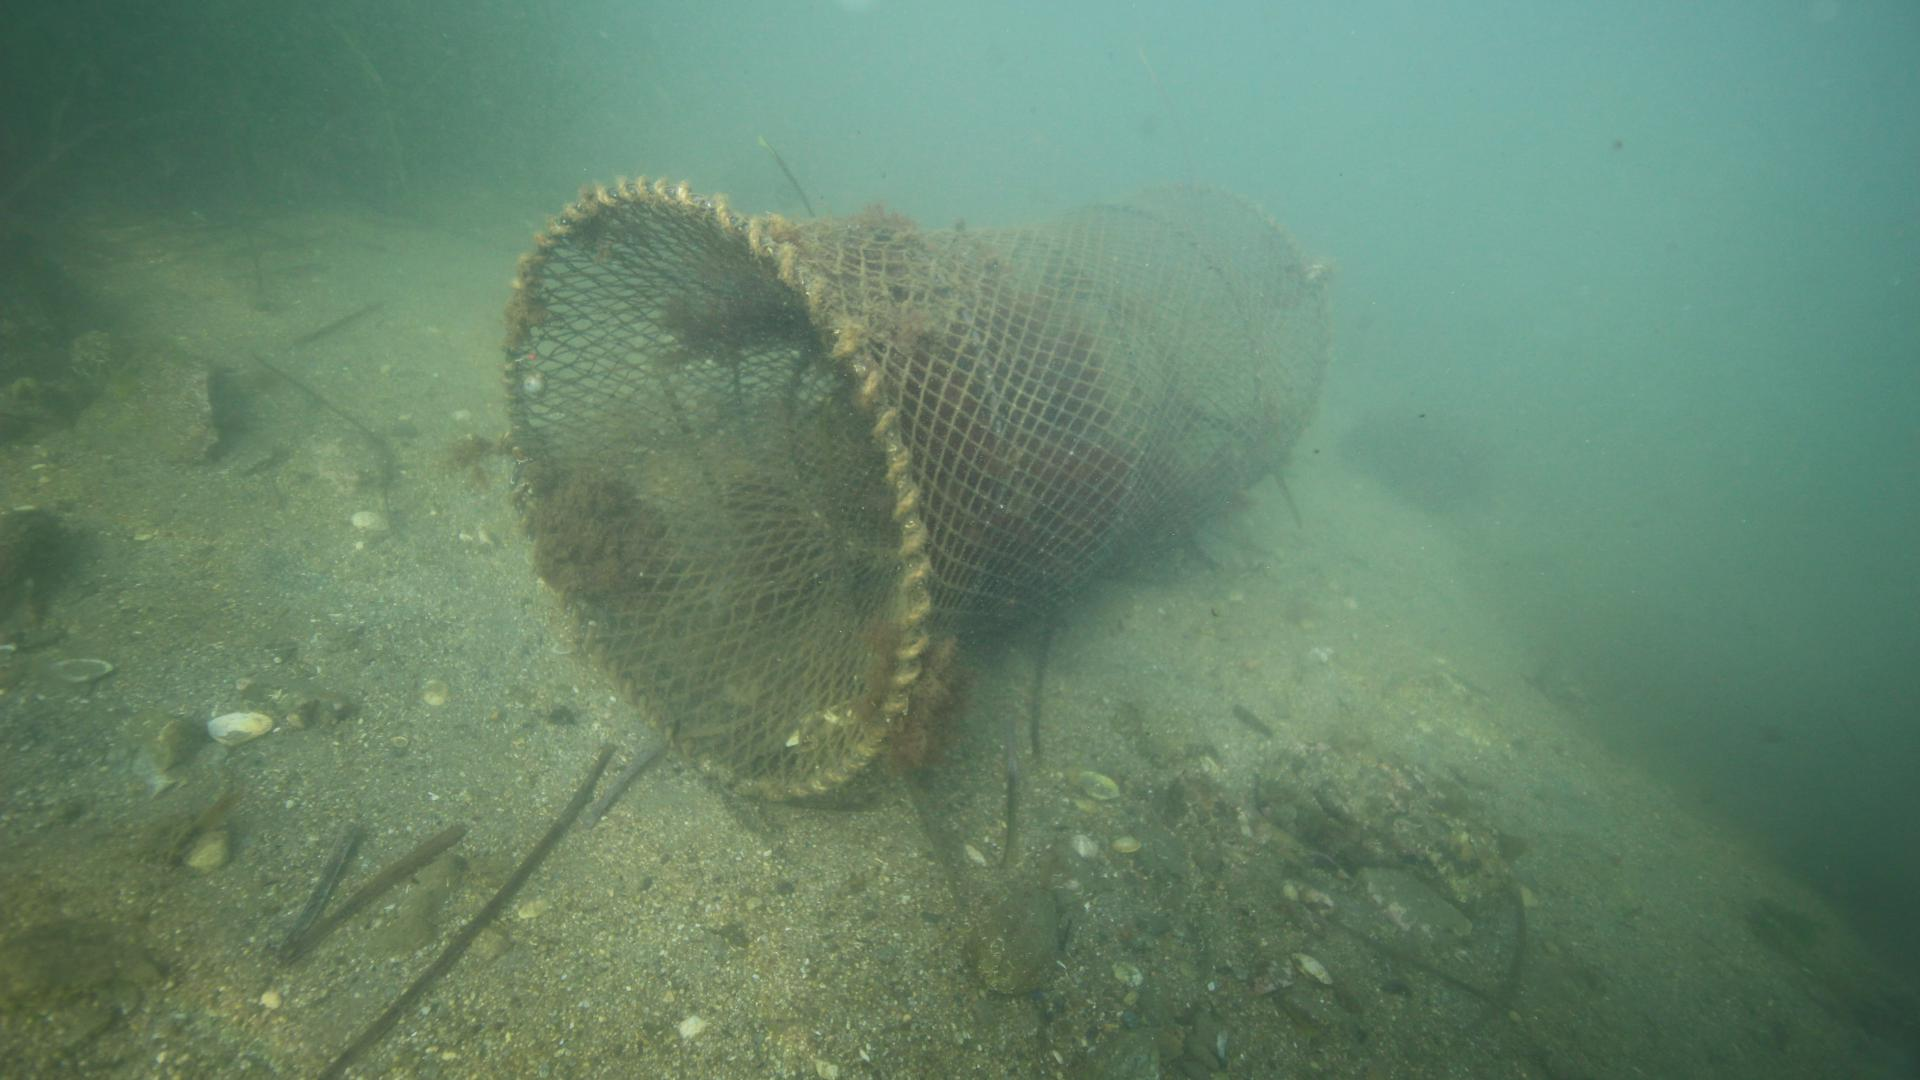spring fish trap: (495, 175, 1335, 799)
